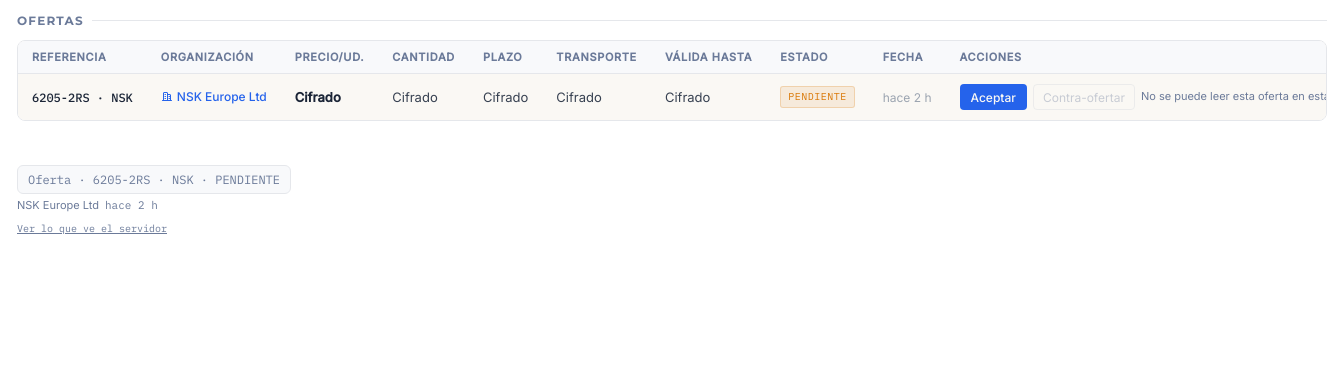
Test: el panel de vista-servidor (Plan §3, día 11) › al abrirlo, enseña content_ciphertext y content_iv tal cual, sin reformatear
Click the button "Ver lo que ve el servidor" at (92, 228), box [17,222,167,235]
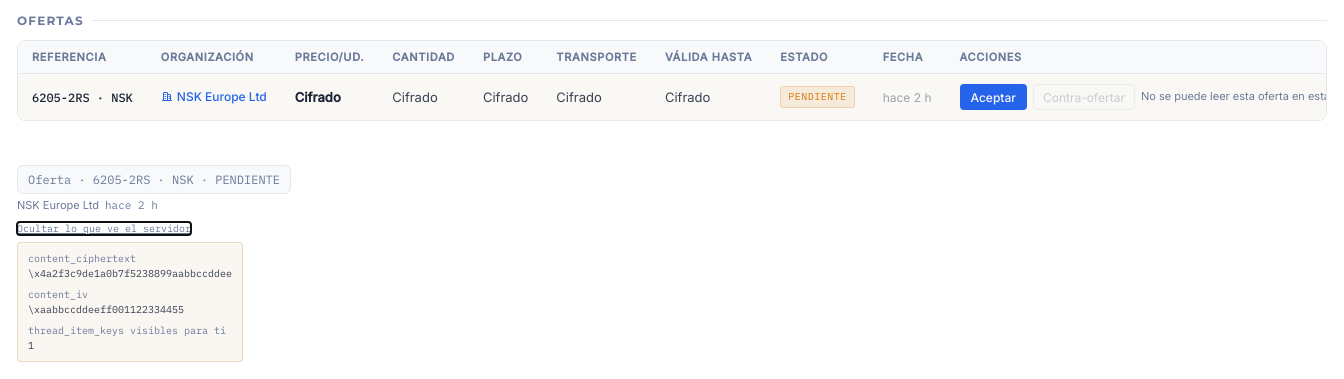
expect the text "\\x4a2f3c9de1a0b7f5238899aabbccddee" is shown: met, box [28,266,232,281]
expect the text "\\xaabbccddeeff001122334455" is shown: met, box [28,303,184,316]
expect the button "Ocultar lo que ve el servidor" is shown: met, box [17,222,191,235]
